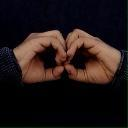hand: (64, 28, 121, 85), (12, 29, 67, 84)
